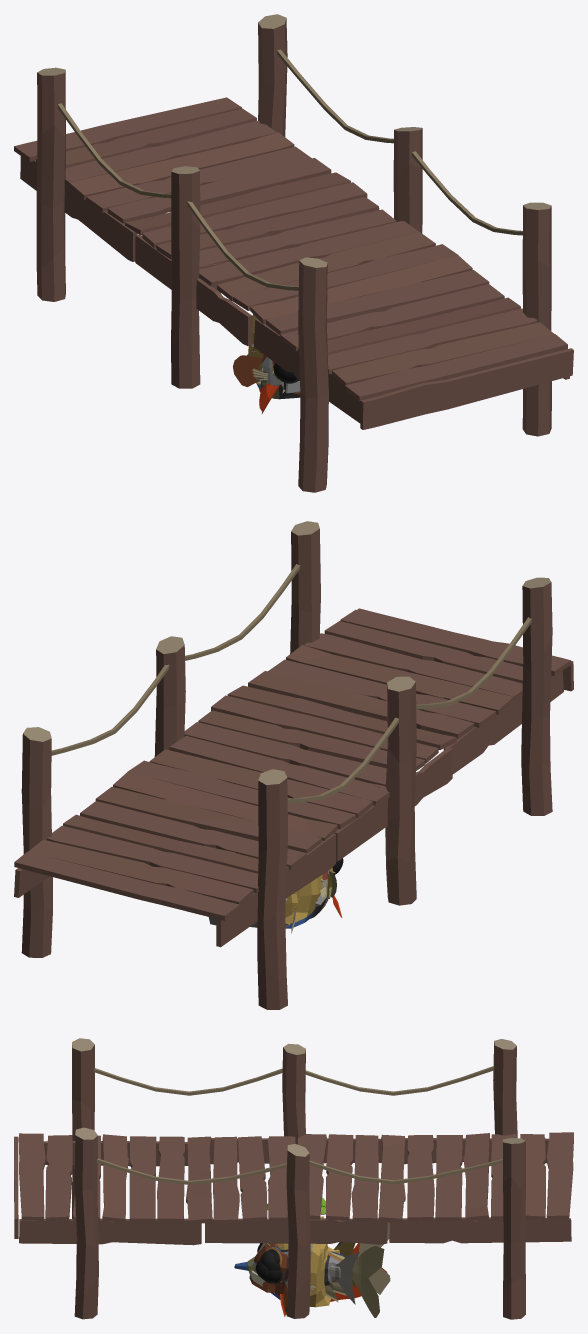
File: sea.glb
3 views of the same model, one above another, from view 1: azimuth 30°, elevation 25°; view 2: azimuth 150°, elevation 25°; view 3: azimuth 270°, elevation 25° (orthographic). The views are drawn at different scales.
Parts seen in each view (by area): view 1: Dock_Long_Cylinder, Clownfish_Cube.029, Koi_Icosphere.008; view 2: Dock_Long_Cylinder, YellowTang_Icosphere.025; view 3: Dock_Long_Cylinder, Butterflyfish_Cube.059, Cube.025_Cube.018, Clownfish_Cube.029, Koi_Icosphere.008, Betta_Cube.047, YellowTang_Icosphere.025.
Boxes of the visible parts, <box> form: Dock_Long_Cylinder: <box>14,14,573,492</box>; Clownfish_Cube.029: <box>233,355,300,394</box>; Koi_Icosphere.008: <box>252,352,300,393</box>; Dock_Long_Cylinder: <box>14,521,573,1009</box>; YellowTang_Icosphere.025: <box>285,861,341,923</box>; Dock_Long_Cylinder: <box>14,1038,573,1319</box>; Butterflyfish_Cube.059: <box>268,1243,359,1307</box>; Cube.025_Cube.018: <box>249,1244,384,1317</box>; Clownfish_Cube.029: <box>249,1243,352,1311</box>; Koi_Icosphere.008: <box>249,1222,390,1295</box>; Betta_Cube.047: <box>262,1221,389,1316</box>; YellowTang_Icosphere.025: <box>277,1216,355,1287</box>.
Size of the model in its own units: 9.21 by 9.44 by 21.69.
Materials: 27 (1 with a texture image).
